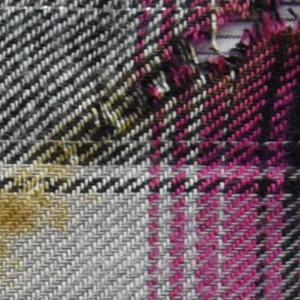Damage: (126, 1, 300, 119)
Oil Stain: (1, 36, 172, 271)
